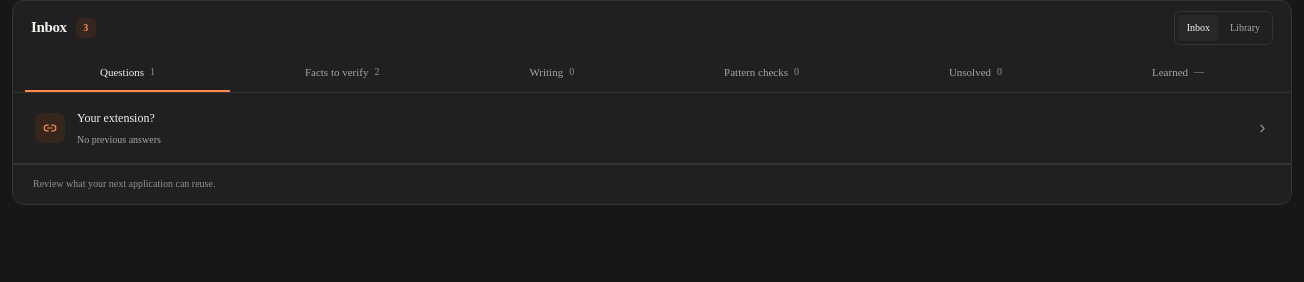
Test: a failed Library load offers retry instead of empty records
Click the button "Library".
click(1245, 28)  # box [1221,15,1269,41]
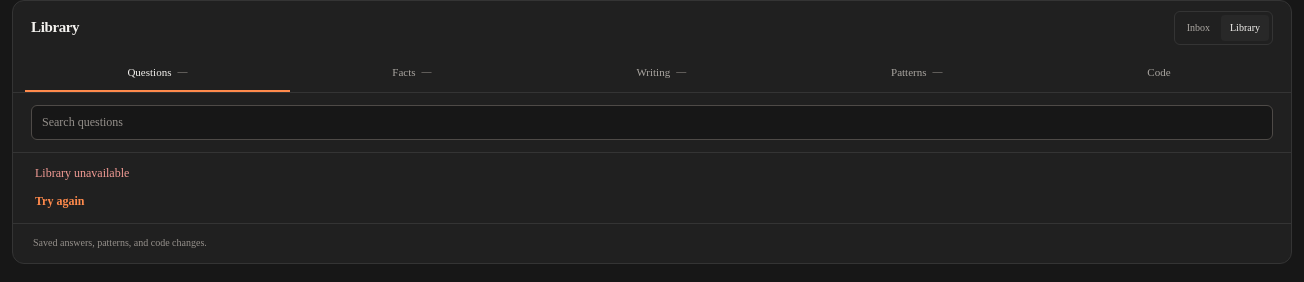
Expected: the message reads "Library unavailable", [35,166,129,180]
Click the button "Try again".
click(60, 202)  # box [35,193,84,210]
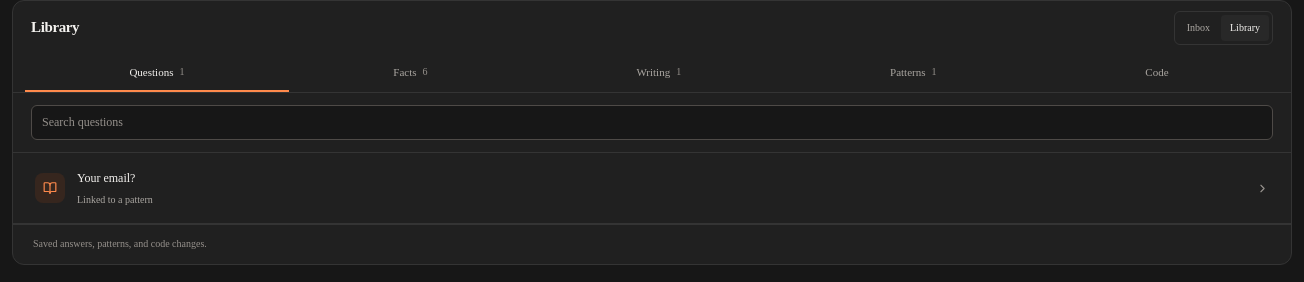
Expected: the button with aria-label "View Your email?" is shown, [13,153,1291,224]
